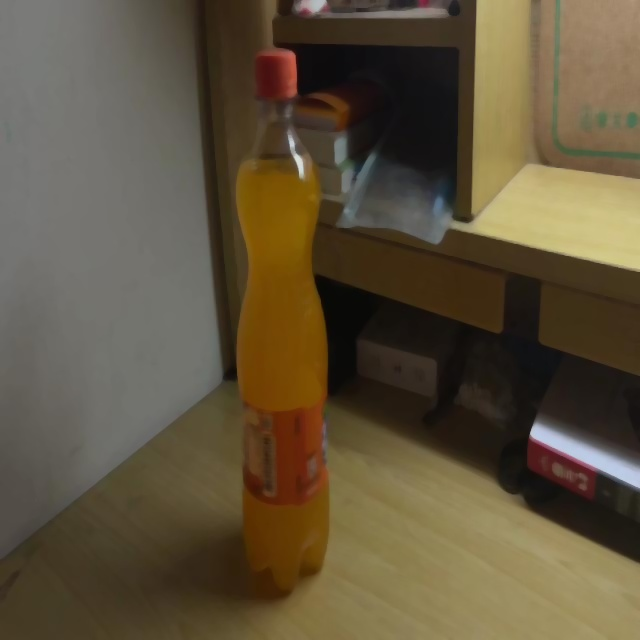Fanta: (236, 46, 330, 590)
